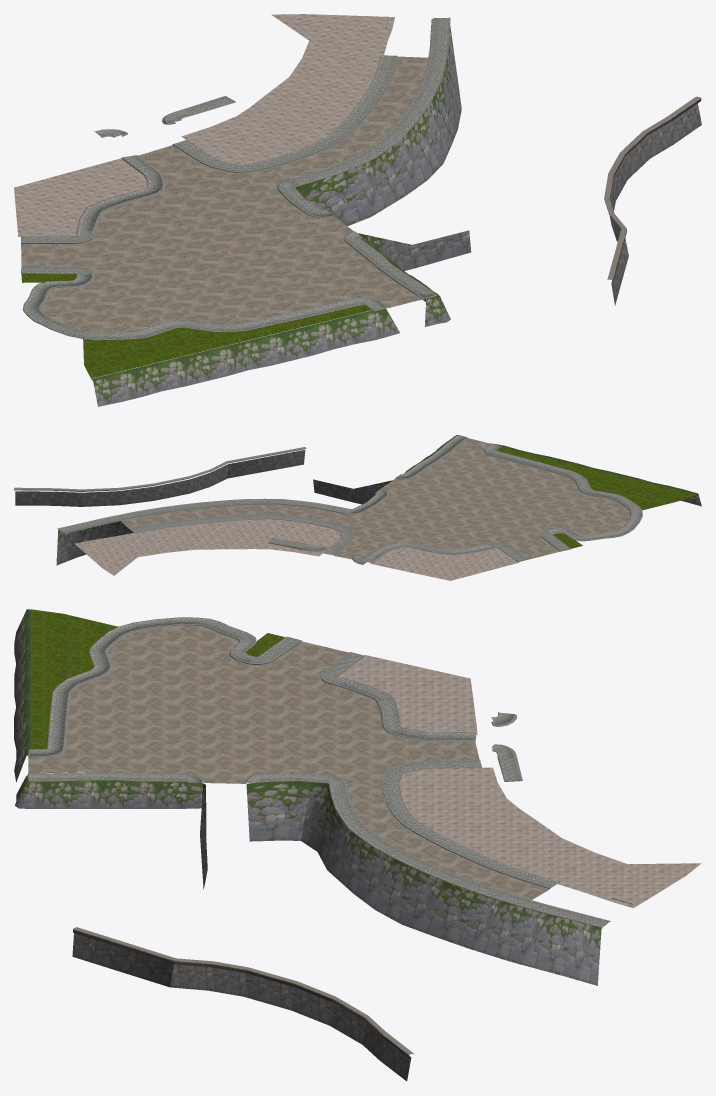
The model's file is wenquan_db_04.FBX.
The picture shows the model from 3 angles, top to bottom: view 1: azimuth 30°, elevation 25°; view 2: azimuth 150°, elevation 25°; view 3: azimuth 270°, elevation 25°; orthographic projection. The views are drawn at different scales.
Parts seen in each view (by area): view 1: wenquan_db_04; view 2: wenquan_db_04; view 3: wenquan_db_04.
Part boxes in pixels (x1,y1,x2,y2): wenquan_db_04: (14,14,701,406); wenquan_db_04: (14,435,701,580); wenquan_db_04: (14,609,701,1081).
Bounding box in the file's own units: 7691 × 838 × 5643.
